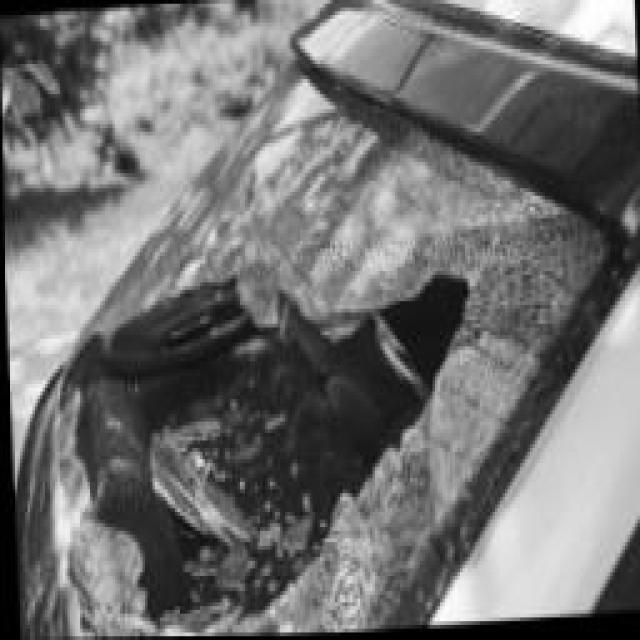Windshield: (20, 53, 606, 639)
